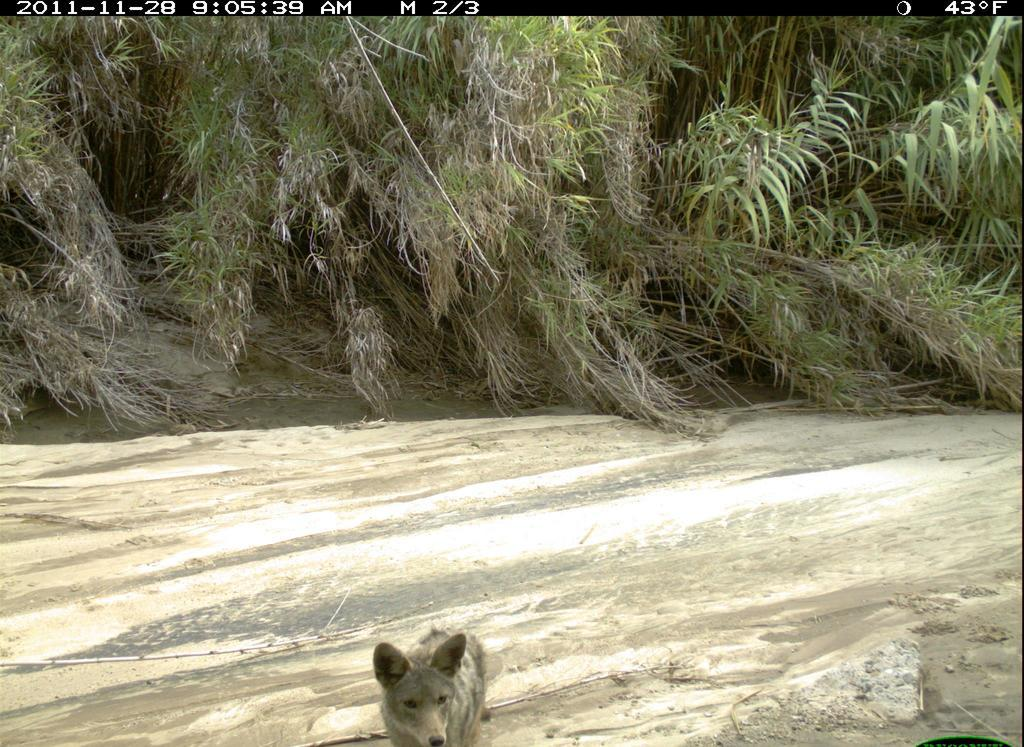coyote: (369, 609, 514, 747)
